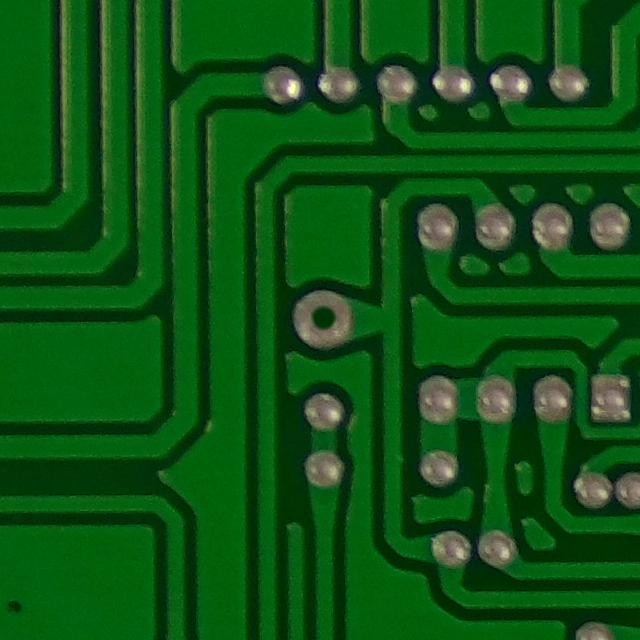missing_hole: (276, 284, 365, 357)
